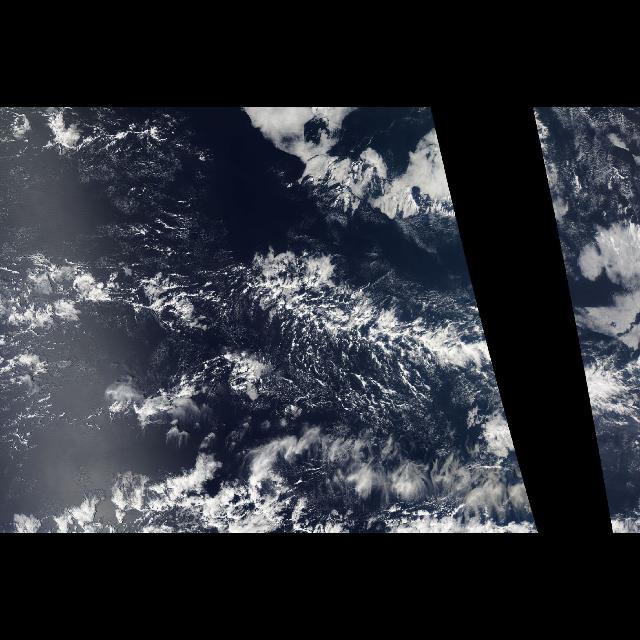Gravel: (215, 259, 471, 426)
Sugar: (1, 128, 188, 260)
